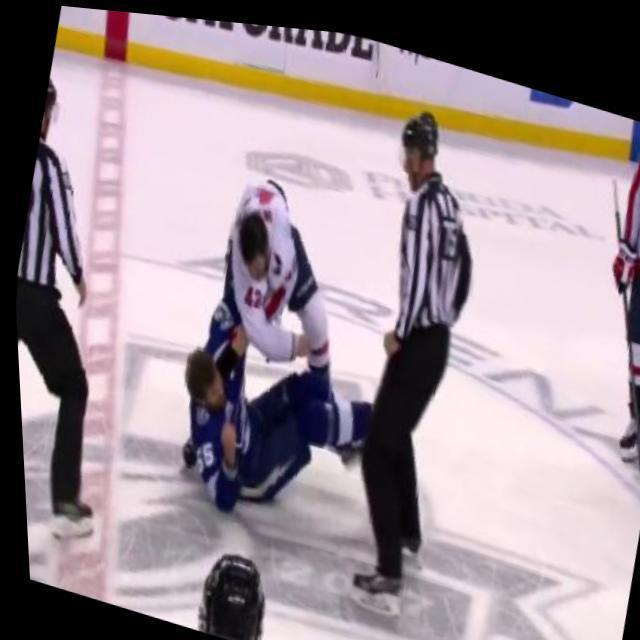fight: (128, 141, 398, 553)
